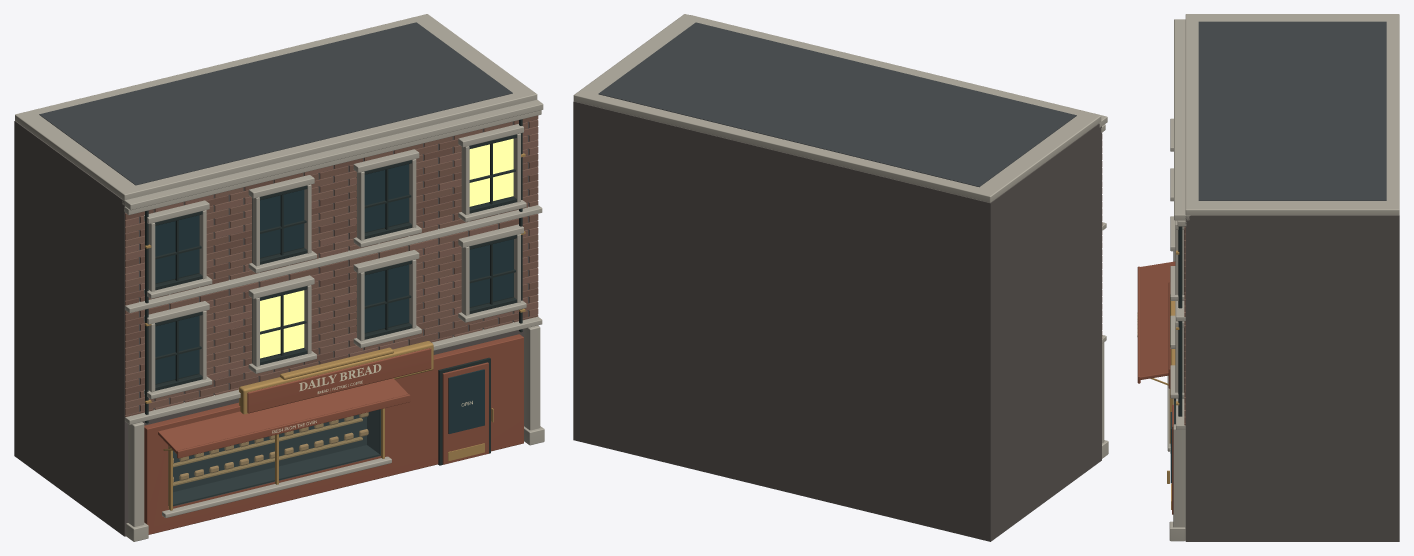
File: district-daily-bread.glb
3 views of the same model, side by side, from view 1: azimuth 30°, elevation 25°; view 2: azimuth 150°, elevation 25°; view 3: azimuth 270°, elevation 25° (orthographic). The views are drawn at different scales.
Visible parts, largest first — view 1: Existing envelope, District Warm limestone, District Roof membrane, District Coffee enamel, District Charcoal painted metal, District Opaque dark glazing, Roof cap, District Shop window clear glazing, District Brick tone 3, District Brick tone 0, District Brick tone 4, District Brick tone 2 (+7 smaller); view 2: Existing envelope, District Roof membrane, Roof cap, District Warm limestone; view 3: Existing envelope, District Roof membrane, Roof cap, District Warm limestone, District Coffee enamel, District Charcoal painted metal, District Aged brass.
Part boxes in pixels (x1=…): Existing envelope: x1=14, y1=119, x2=537, y2=536; District Warm limestone: x1=122, y1=99, x2=544, y2=541; District Roof membrane: x1=39, y1=22, x2=512, y2=185; District Coffee enamel: x1=144, y1=334, x2=523, y2=534; District Charcoal painted metal: x1=145, y1=119, x2=522, y2=506; District Opaque dark glazing: x1=155, y1=164, x2=513, y2=433; Roof cap: x1=15, y1=14, x2=537, y2=200; District Shop window clear glazing: x1=173, y1=410, x2=380, y2=506; District Brick tone 3: x1=125, y1=121, x2=538, y2=411; District Brick tone 0: x1=125, y1=147, x2=538, y2=417; District Brick tone 4: x1=125, y1=126, x2=538, y2=409; District Brick tone 2: x1=125, y1=119, x2=538, y2=414; Existing envelope: x1=573, y1=101, x2=1101, y2=541; District Roof membrane: x1=598, y1=22, x2=1076, y2=187; Roof cap: x1=573, y1=14, x2=1101, y2=202; District Warm limestone: x1=690, y1=15, x2=1108, y2=458; Existing envelope: x1=1185, y1=215, x2=1399, y2=541; District Roof membrane: x1=1198, y1=21, x2=1386, y2=200; Roof cap: x1=1185, y1=14, x2=1399, y2=215; District Warm limestone: x1=1167, y1=19, x2=1190, y2=541; District Coffee enamel: x1=1137, y1=261, x2=1175, y2=383; District Charcoal painted metal: x1=1174, y1=226, x2=1184, y2=424; District Aged brass: x1=1150, y1=250, x2=1179, y2=509.
Bounding box in the file's own units: 11.7 × 9.26 × 6.62.
